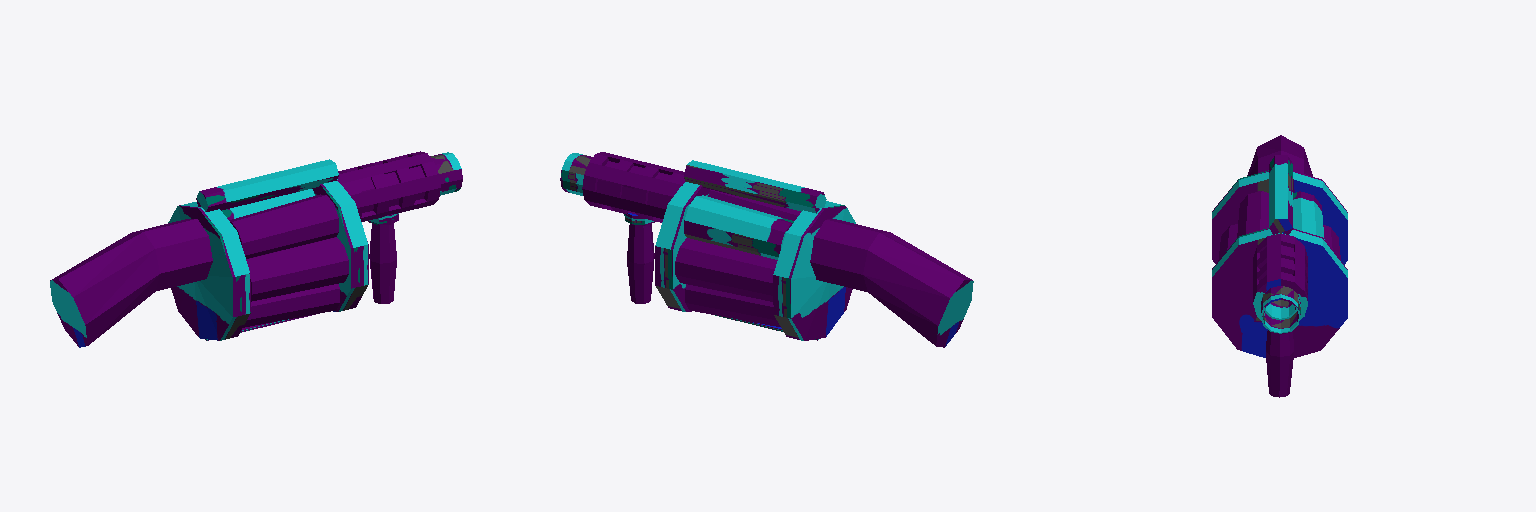
3 views of the same model, side by side, from view 1: azimuth 30°, elevation 25°; view 2: azimuth 150°, elevation 25°; view 3: azimuth 270°, elevation 25° (orthographic).
Visible parts, largest first — view 1: TEMPORARY_IMPORT_NAMESPACE__�_�_notpaint:name11; view 2: TEMPORARY_IMPORT_NAMESPACE__�_�_notpaint:name11; view 3: TEMPORARY_IMPORT_NAMESPACE__�_�_notpaint:name11.
Part boxes in pixels (x1,y1,x2,y2): TEMPORARY_IMPORT_NAMESPACE__�_�_notpaint:name11: (50,151,462,347); TEMPORARY_IMPORT_NAMESPACE__�_�_notpaint:name11: (560,152,973,347); TEMPORARY_IMPORT_NAMESPACE__�_�_notpaint:name11: (1212,135,1347,397).
Bounding box in the file's own units: 4.04 × 1.47 × 1.21.
Materials: 1 (1 with a texture image).